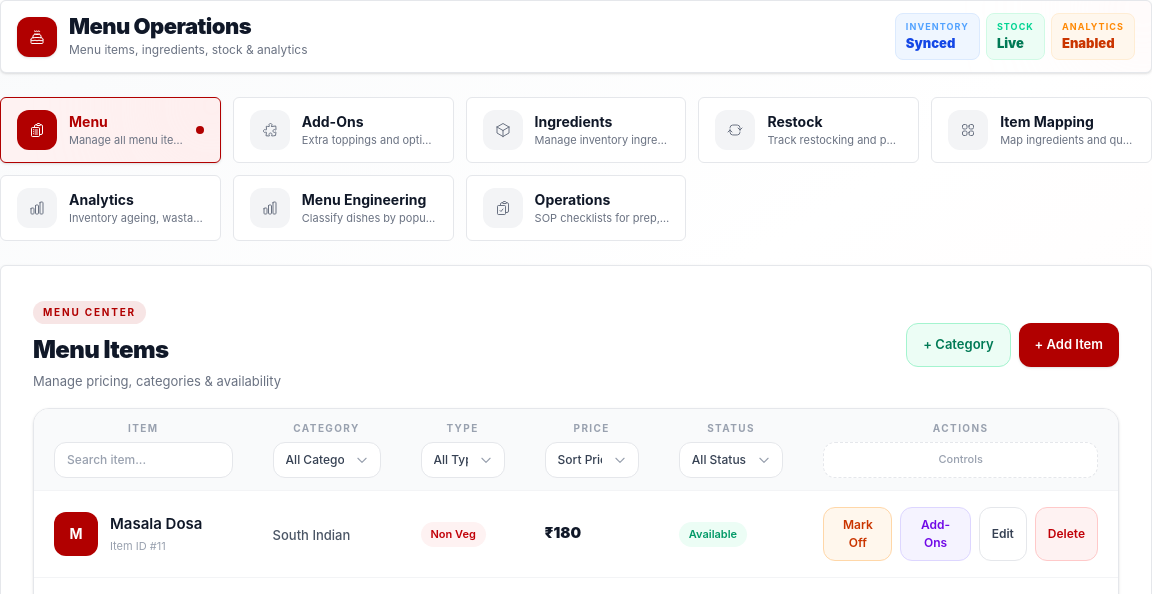
it: Menu Management — characterisation › renders the ingredients tab's own content
expect the heading "Menu Operations" is shown: met, box [69,12,251,38]
Click the button "Ingredients" at (576, 130), box [466,97,686,163]
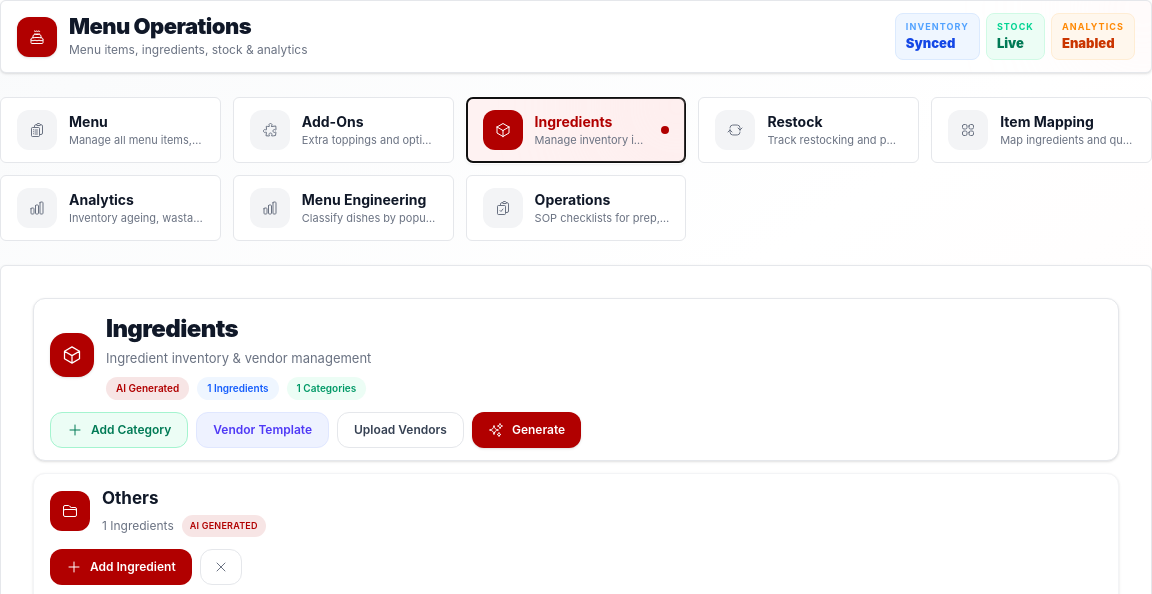
expect the text "Ingredient inventory & vendor management" is shown: met, box [106,349,371,368]
